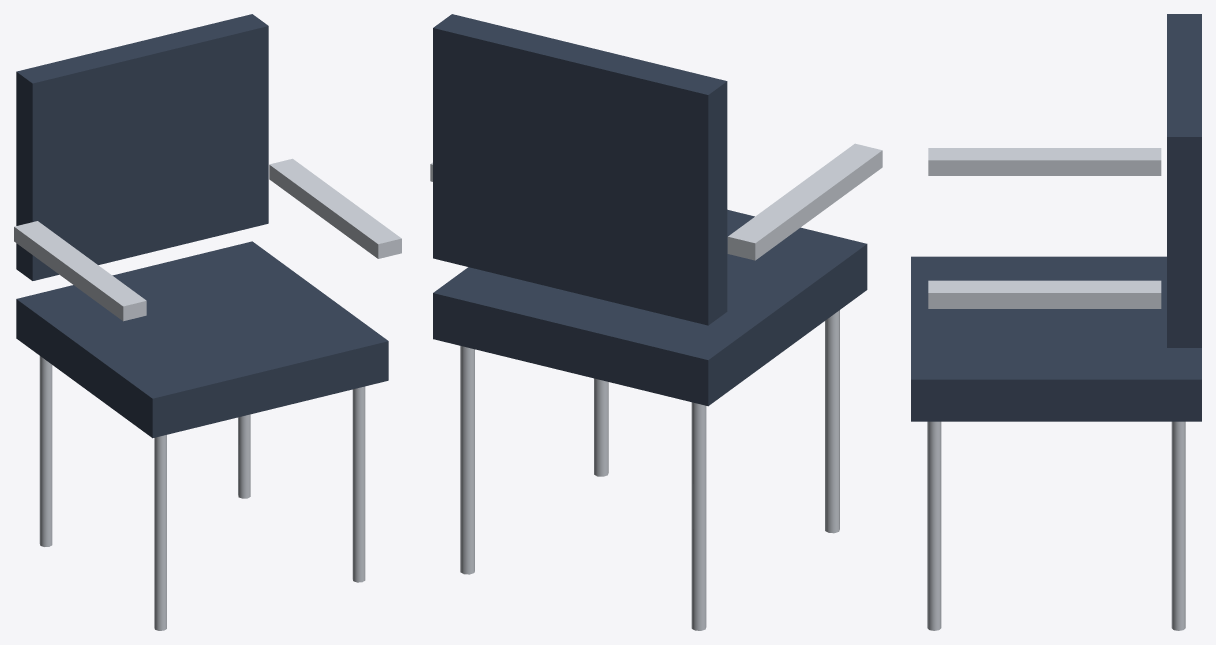
3 renders of one model, left to right at view 1: azimuth 30°, elevation 25°; view 2: azimuth 150°, elevation 25°; view 3: azimuth 270°, elevation 25°, orthographic. The views are drawn at different scales.
Visible parts, largest first — view 1: upholstery, chrome; view 2: upholstery, chrome; view 3: upholstery, chrome.
Part boxes in pixels (box(x1,y1,x2,y2)): upholstery: box(16, 14, 388, 438); chrome: box(14, 158, 401, 630); upholstery: box(433, 14, 867, 406); chrome: box(430, 143, 882, 630); upholstery: box(911, 14, 1201, 421); chrome: box(927, 148, 1185, 630).
Size of the model in its own units: 0.59 by 0.95 by 0.5.
